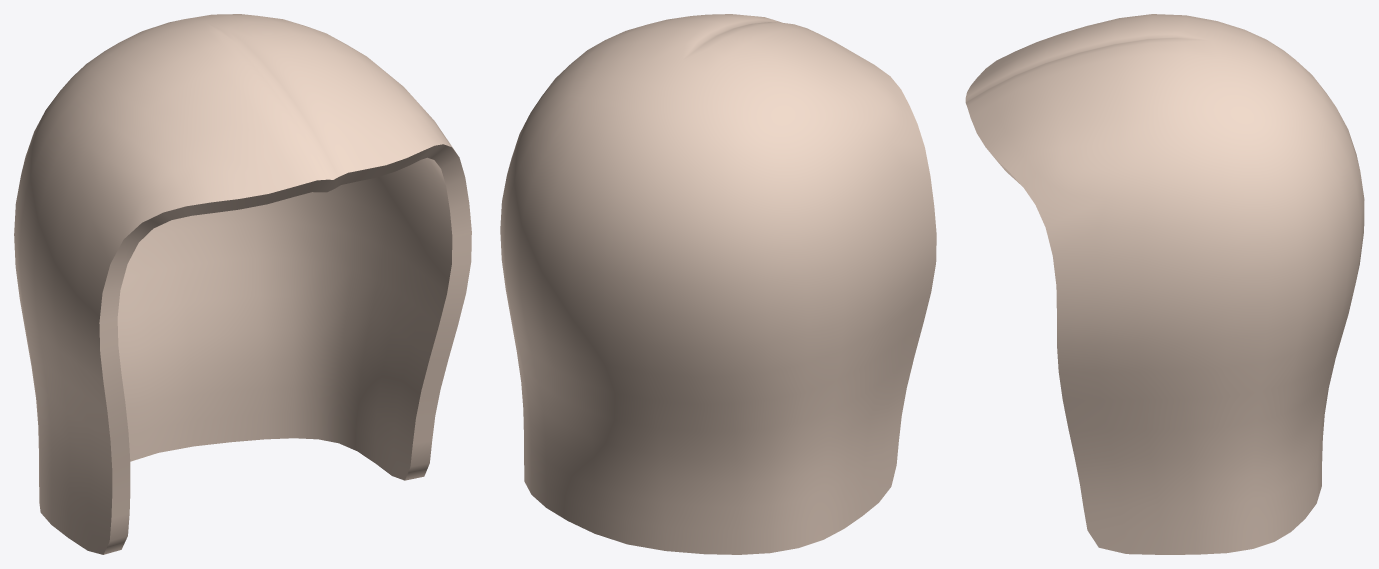
The picture shows the model from 3 angles, left to right: view 1: azimuth 30°, elevation 25°; view 2: azimuth 150°, elevation 25°; view 3: azimuth 270°, elevation 25°; orthographic projection. The views are drawn at different scales.
Parts seen in each view (by area): view 1: hair_long; view 2: hair_long; view 3: hair_long.
Boxes of the visible parts, x1,y1,x2,y2 form: hair_long: (14,14,471,554); hair_long: (500,14,936,554); hair_long: (965,14,1364,554).
Size of the model in its own units: 2 by 2.38 by 1.91.
